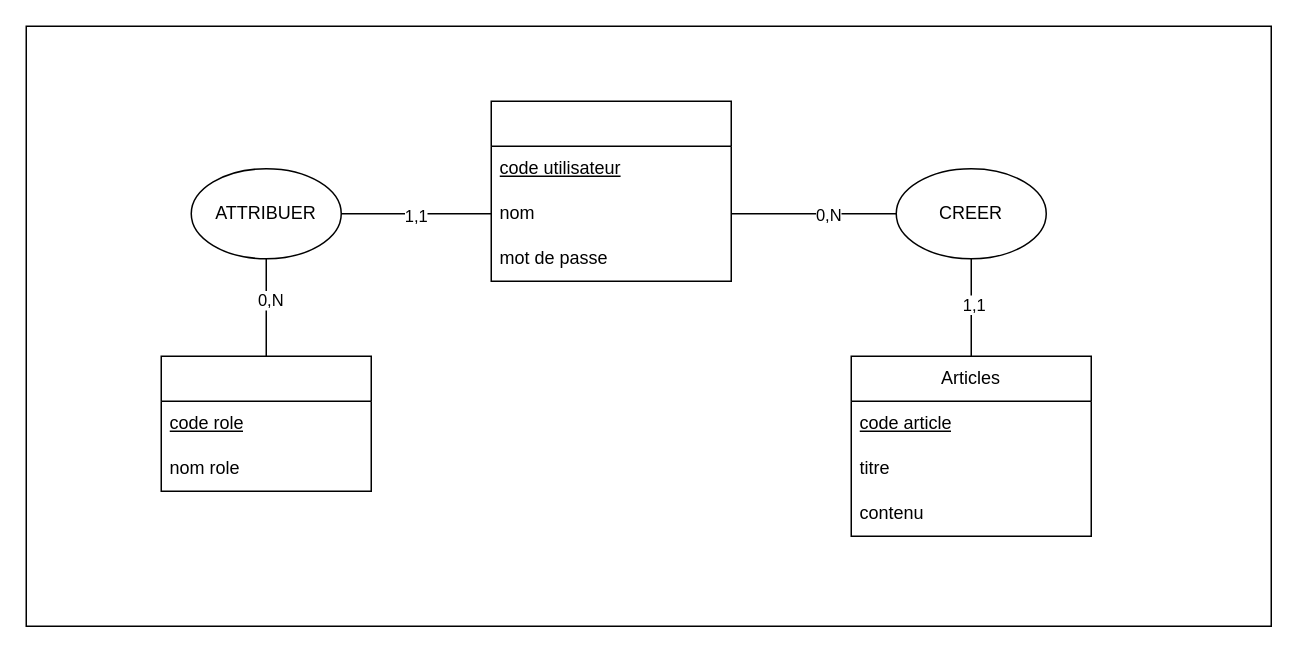
This 1298x653 diagram has some shape labels left out. The shapes that lost their labels are listed below. From the top down, each one's box as (x1, y1, x2, y2) in pixels, then its label:
(490, 100, 731, 281): Utilisateurs
(160, 355, 371, 491): Roles
